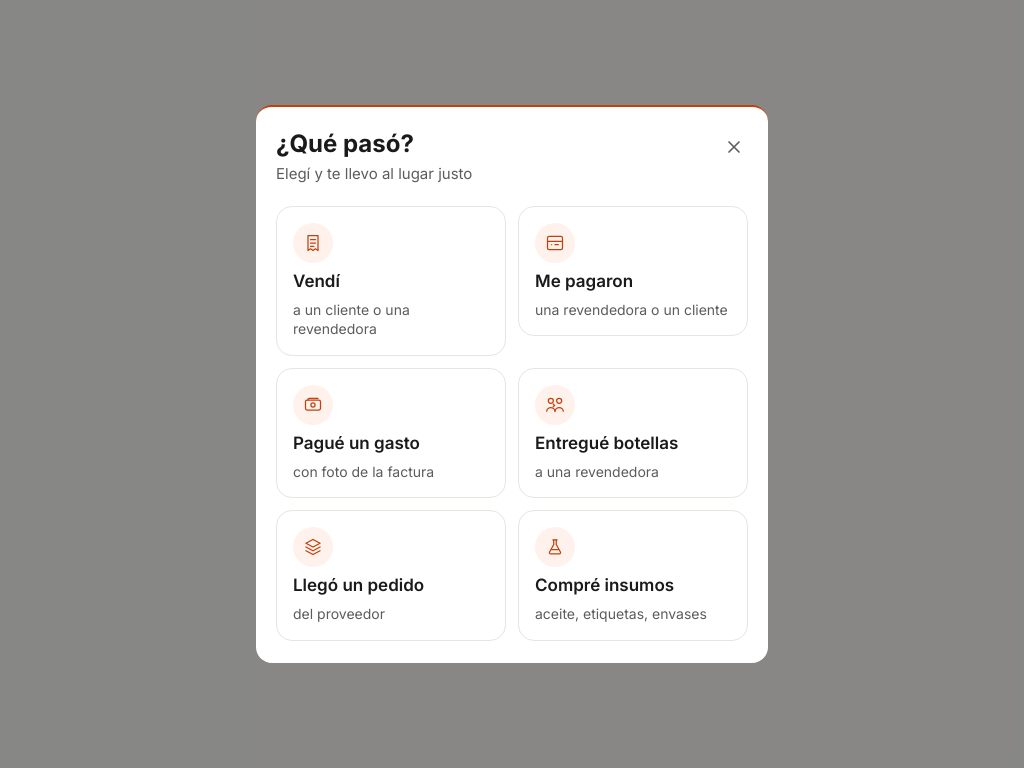
QuePasoSheet › Vendí → paso 2 con Ananja y cada revendedora con ?seccion=ventas
What coordinates should you click on to do the following:
click the button "Vendí a un cliente o una revendedora"
I would click on:
 (391, 281)
Its box is [276,206,506,356].
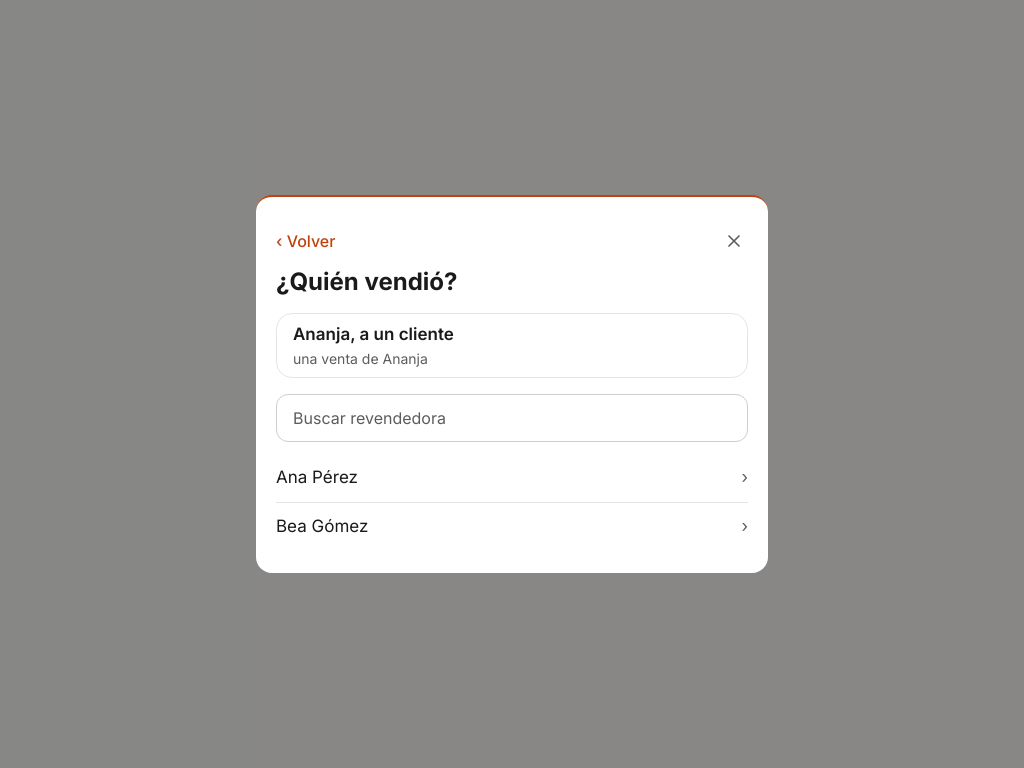
Result: the text "¿Quién vendió?" is shown at [276,267,457,296]
